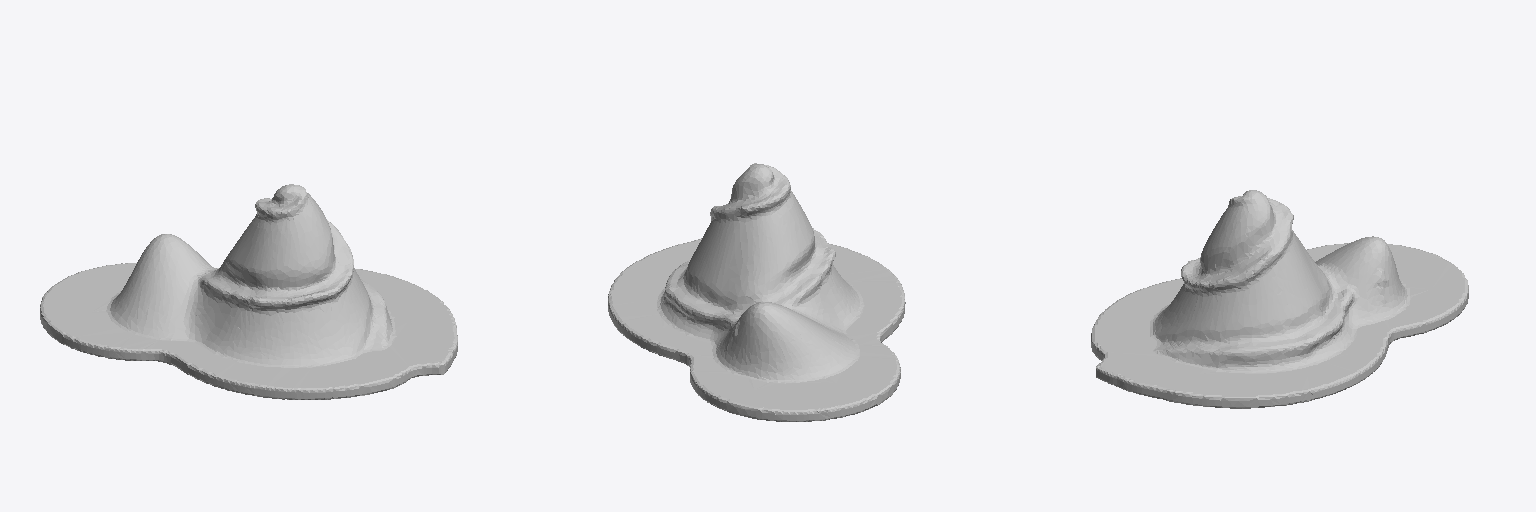
The model's file is mountain.obj.
3 views of the same model, side by side, from view 1: azimuth 30°, elevation 25°; view 2: azimuth 150°, elevation 25°; view 3: azimuth 270°, elevation 25° (orthographic).
Visible parts, largest first — view 1: level04_hipoly; view 2: level04_hipoly; view 3: level04_hipoly.
Part boxes in pixels (x1,y1,x2,y2): level04_hipoly: (40,184,457,399); level04_hipoly: (608,163,905,421); level04_hipoly: (1091,190,1468,408).
Size of the model in its own units: 265 by 119 by 271.